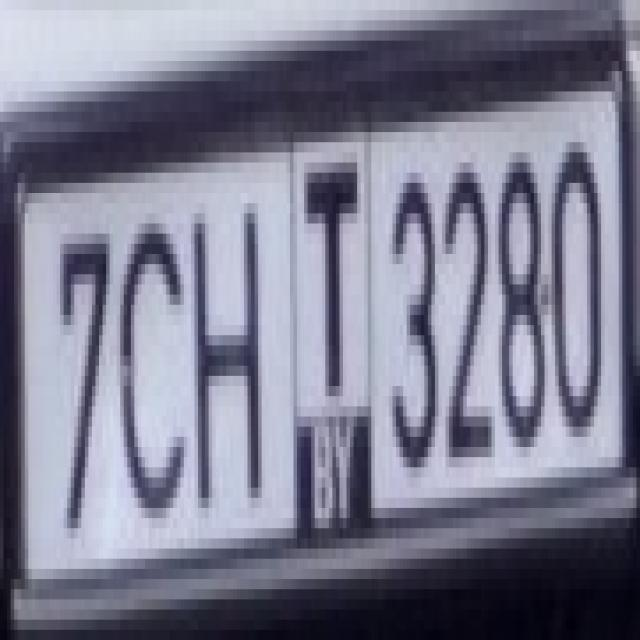0: (544, 122, 604, 427)
2: (434, 142, 492, 457)
3: (378, 152, 432, 468)
7: (42, 203, 114, 528)
8: (488, 122, 544, 447)
C: (110, 193, 188, 508)
H: (180, 172, 266, 498)
T: (297, 142, 364, 386)
